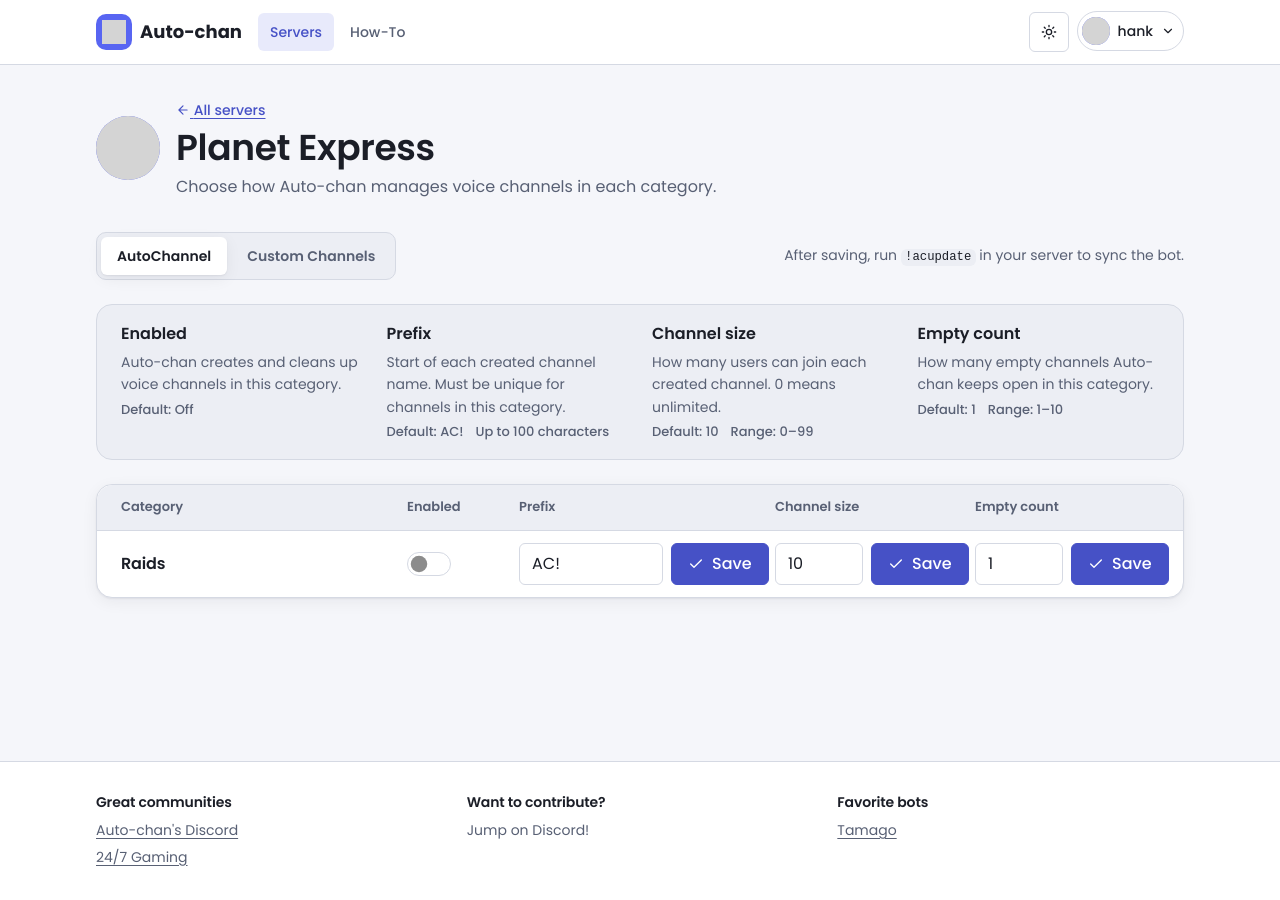
Test: App › shows the validation error and restores the saved value
Replace the text in the number field named "Raids empty count" with "5". click: coordinates (1019, 564)
box: [975,543,1063,585]
Then press Enter
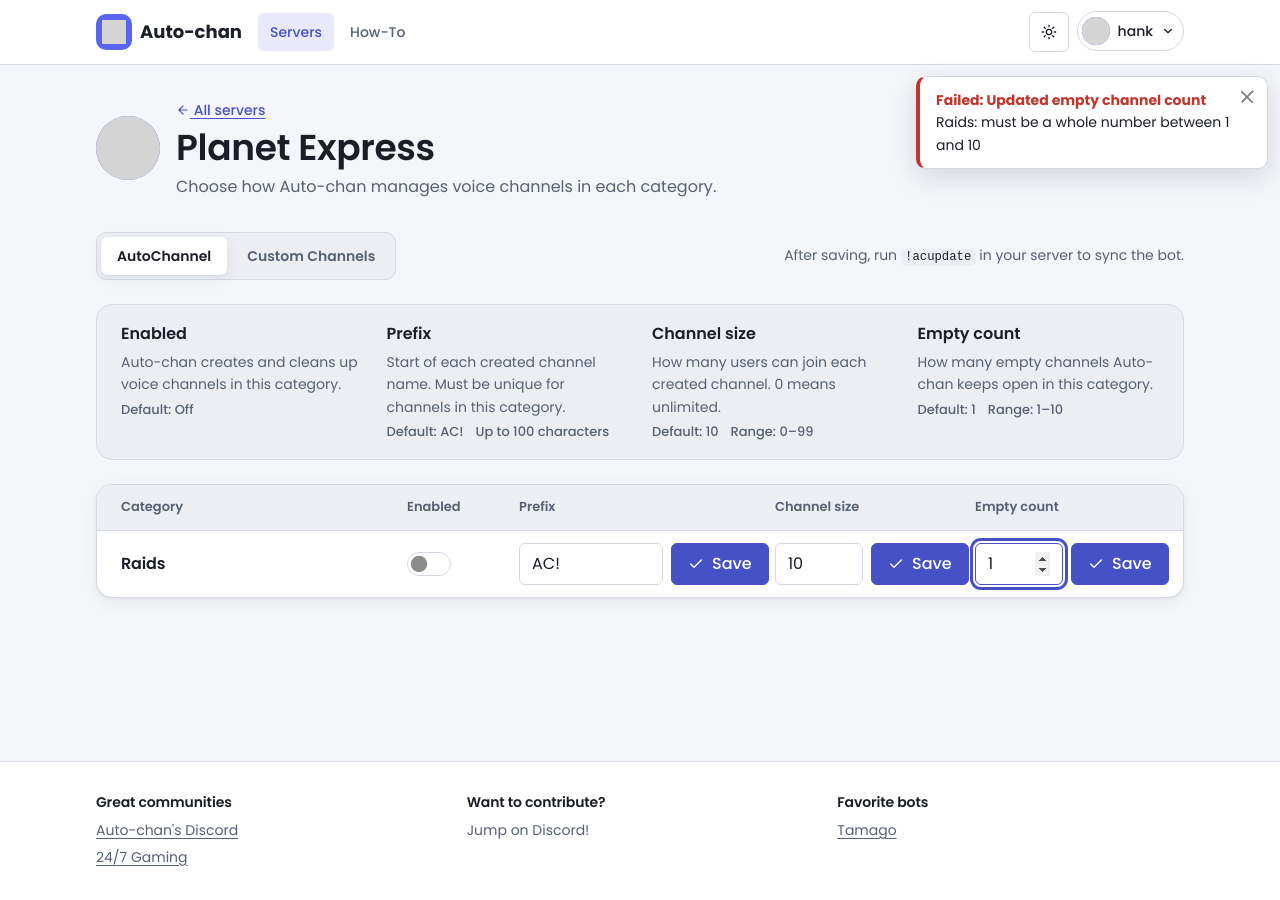
Check: the message shows "between 1 and 10", box [936,112,1230,155]
Check: the number field named "Raids empty count" holds "1", box [975,543,1063,585]
